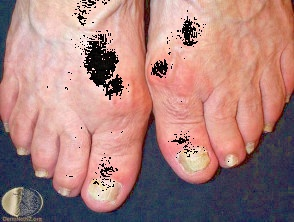Nail_psoriasis: (172, 136, 216, 180), (83, 175, 122, 206), (260, 118, 279, 136), (33, 163, 51, 179), (223, 152, 241, 168), (14, 143, 30, 156), (244, 139, 255, 156), (56, 186, 71, 198), (3, 118, 11, 134), (285, 93, 292, 104)
